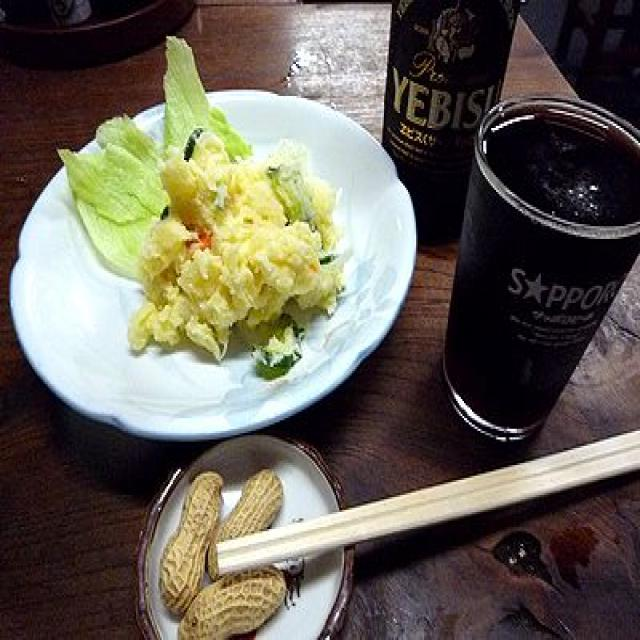蔬菜料理: (1, 26, 422, 443)
